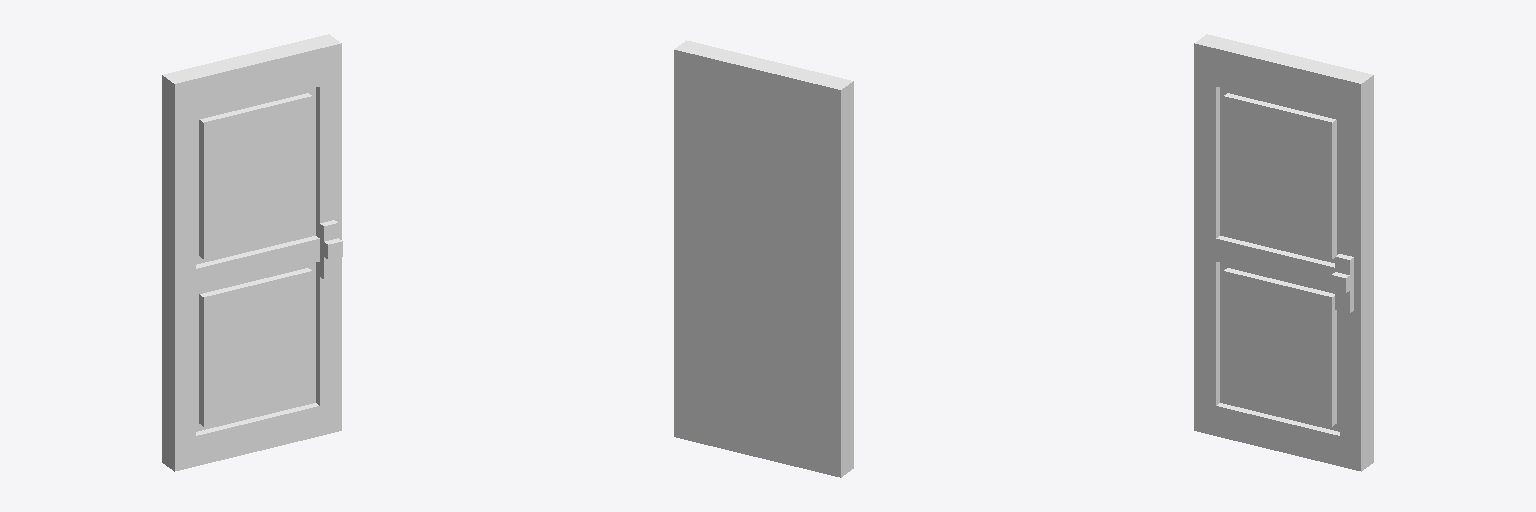
Rendered from Character_room-0-Door 1.obj.
3 renders of one model, left to right at view 1: azimuth 30°, elevation 25°; view 2: azimuth 150°, elevation 25°; view 3: azimuth 330°, elevation 25°, orthographic.
Parts seen in each view (by area): view 1: Door; view 2: Door; view 3: Door.
Part boxes in pixels (x1,y1,x2,y2): Door: (162, 34, 342, 471); Door: (674, 40, 853, 477); Door: (1194, 34, 1373, 471).
Size of the model in its own units: 2.3 by 5.1 by 0.5.